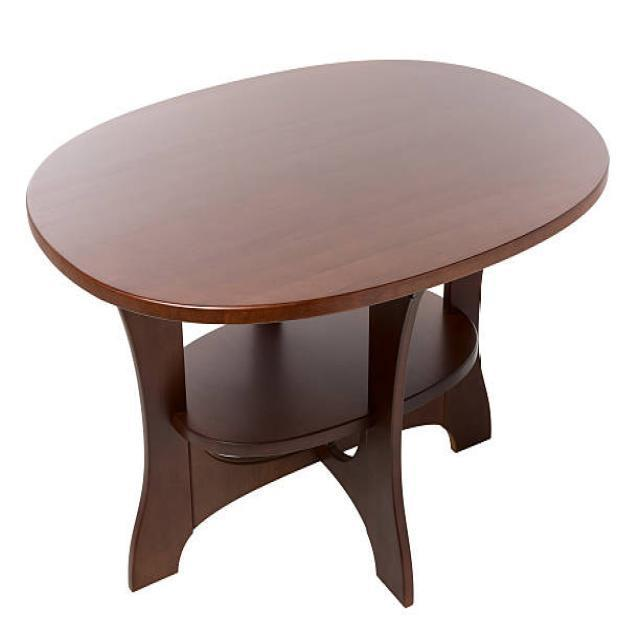table: (25, 57, 610, 607)
